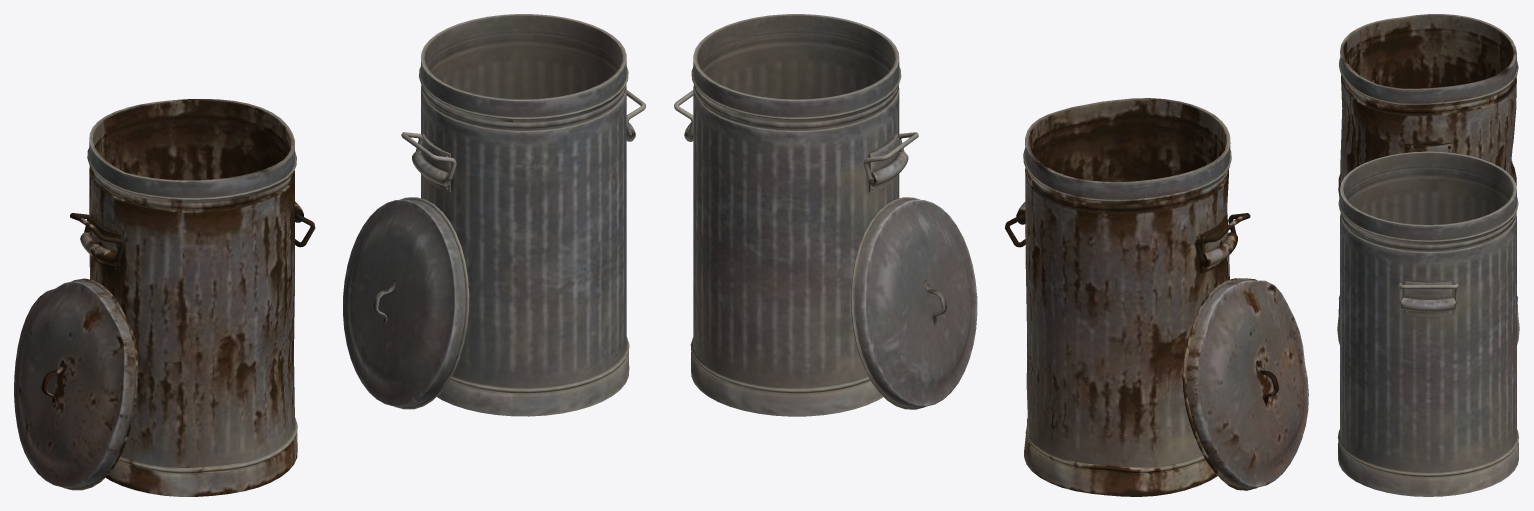
The model's file is lixeira.glb.
The picture shows the model from 3 angles, left to right: view 1: azimuth 30°, elevation 25°; view 2: azimuth 150°, elevation 25°; view 3: azimuth 270°, elevation 25°; orthographic projection. The views are drawn at different scales.
Parts seen in each view (by area): view 1: lixeira; view 2: lixeira; view 3: lixeira.
Part boxes in pixels (bbox=[...]): lixeira: bbox=[14, 14, 645, 496]; lixeira: bbox=[674, 14, 1308, 496]; lixeira: bbox=[1337, 14, 1519, 496].
Size of the model in its own units: 1.78 by 0.9062 by 0.5554.
3 materials, 3 textured.
